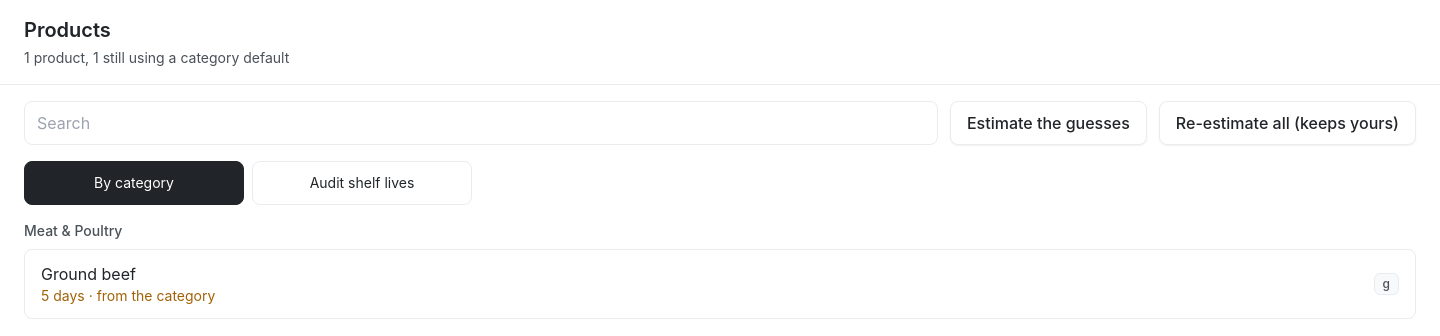
Test: ProductsPage › says what happened to the food, not just to the catalog (Q12)
This screenshot has width=1440, height=336.
Click the button "Estimate the guesses": (1048, 123) [950,101,1147,145]
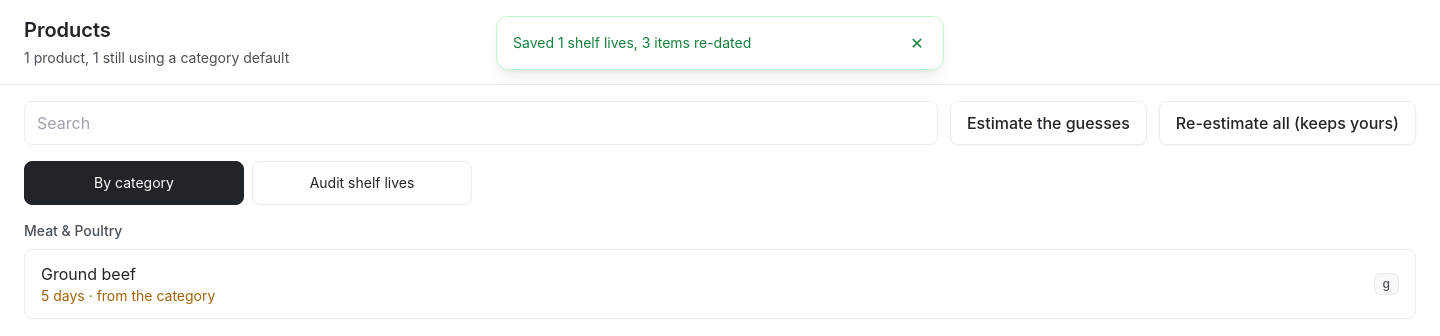
Expected: the text "Saved 1 shelf lives, 3 items re-dated" is shown, [513,34,751,51]
